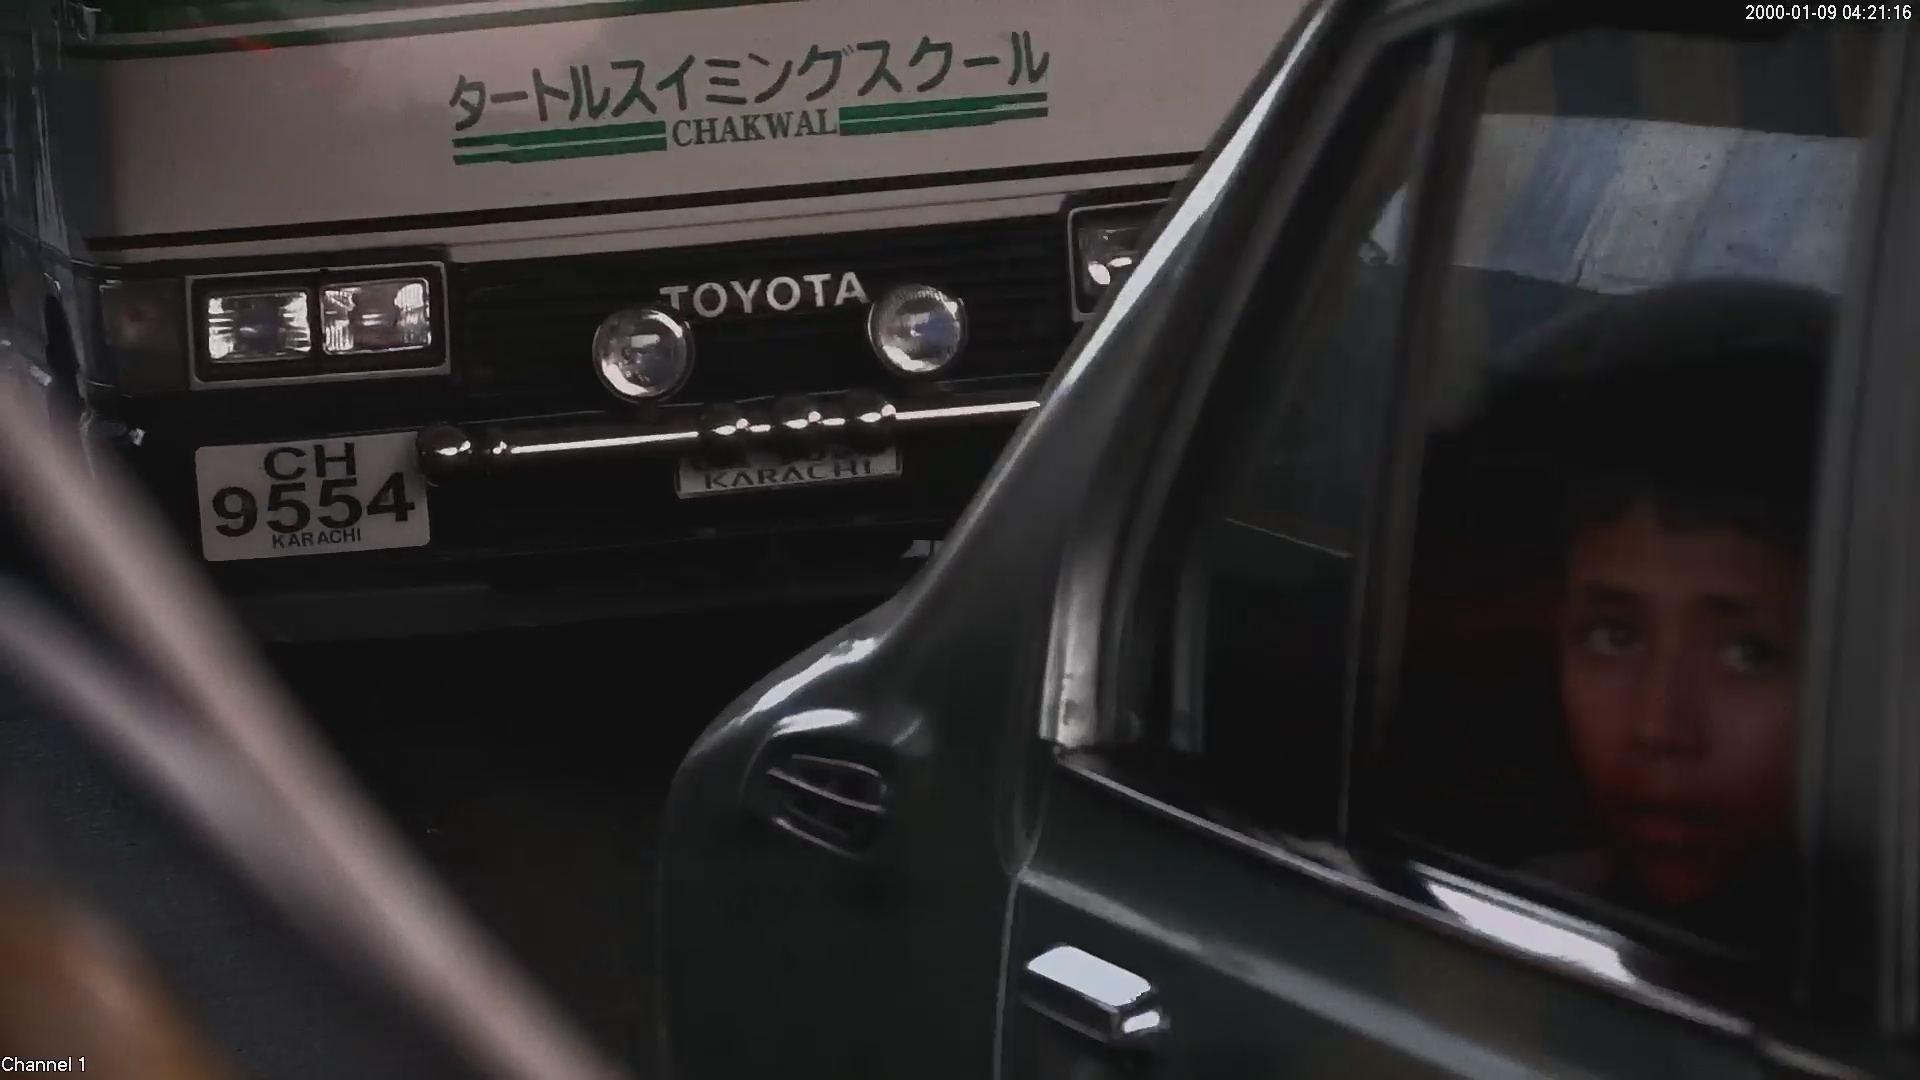Number_Plate: (180, 431, 447, 566)
Undefined: (419, 27, 1087, 159), (160, 266, 465, 379), (660, 414, 923, 505), (654, 270, 871, 318)
